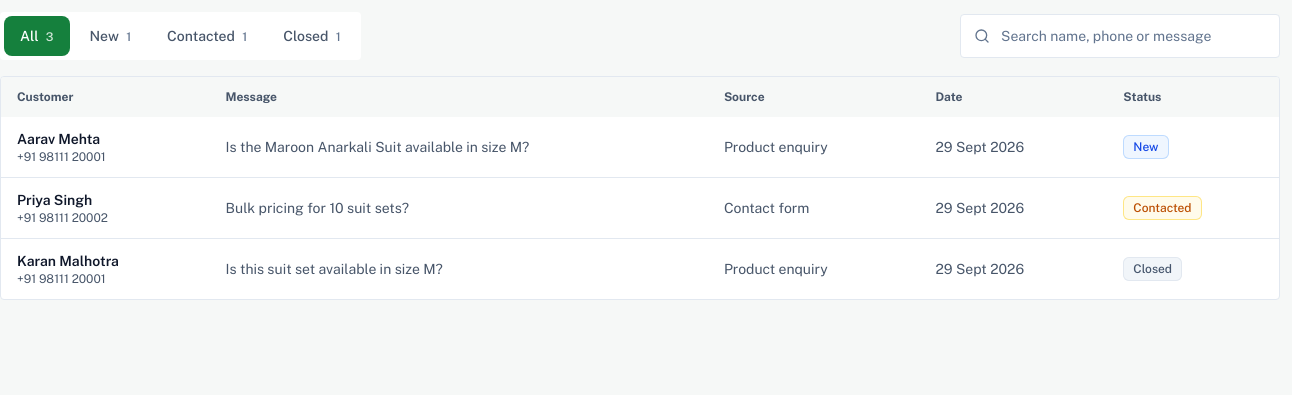
Scenario: <EnquiryAdmin /> › shows an empty state and can reset the filters
Type "nothing like this" into the field named "Search enquiries" at (1120, 36), box x1=960 y1=14 x2=1280 y2=58
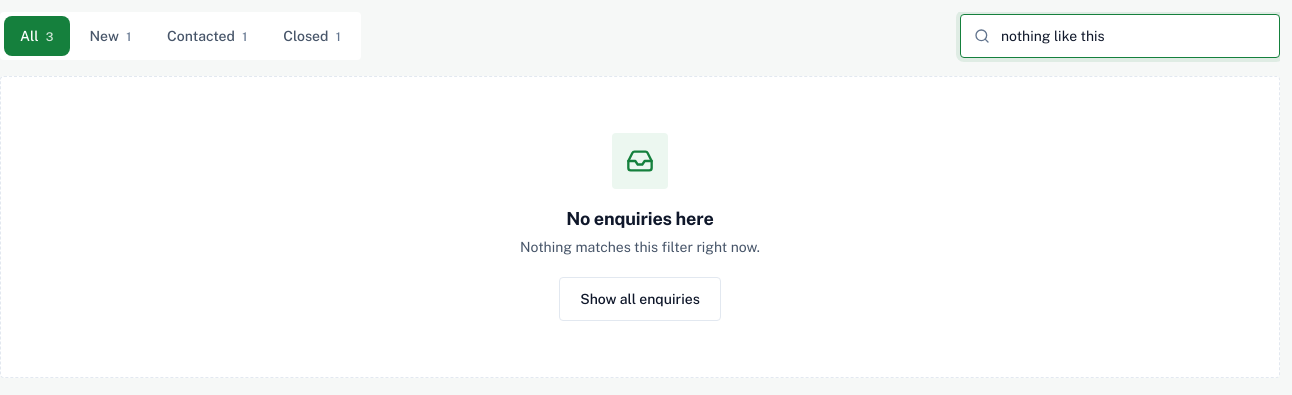
Check: the heading "No enquiries here" is shown, box x1=566 y1=205 x2=714 y2=233
Click the button "Show all enquiries" at (640, 299), box x1=559 y1=277 x2=721 y2=321
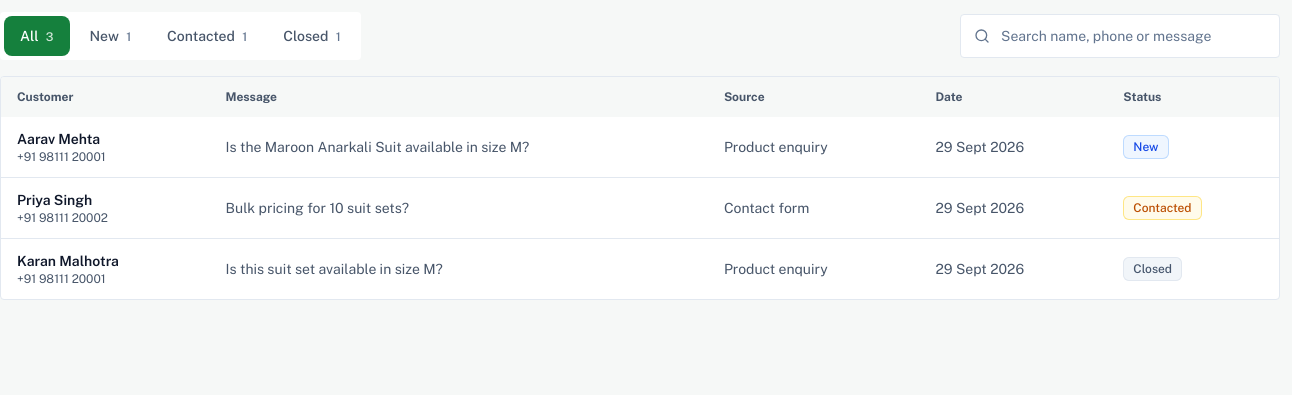
Check: the text "Aarav Mehta" is shown, box x1=17 y1=131 x2=100 y2=147
